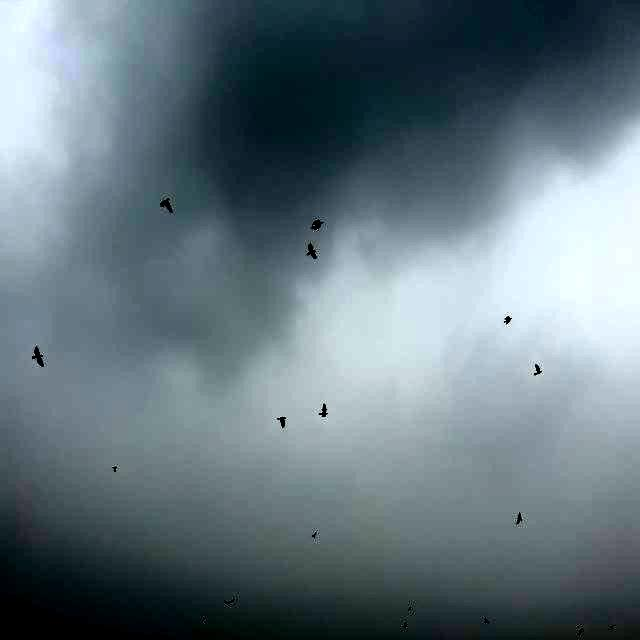bird: (314, 394, 336, 424), (154, 193, 174, 222), (527, 361, 546, 389), (30, 344, 48, 372), (498, 308, 516, 335), (270, 410, 292, 432), (310, 210, 326, 236), (303, 241, 321, 264), (510, 512, 525, 532)
